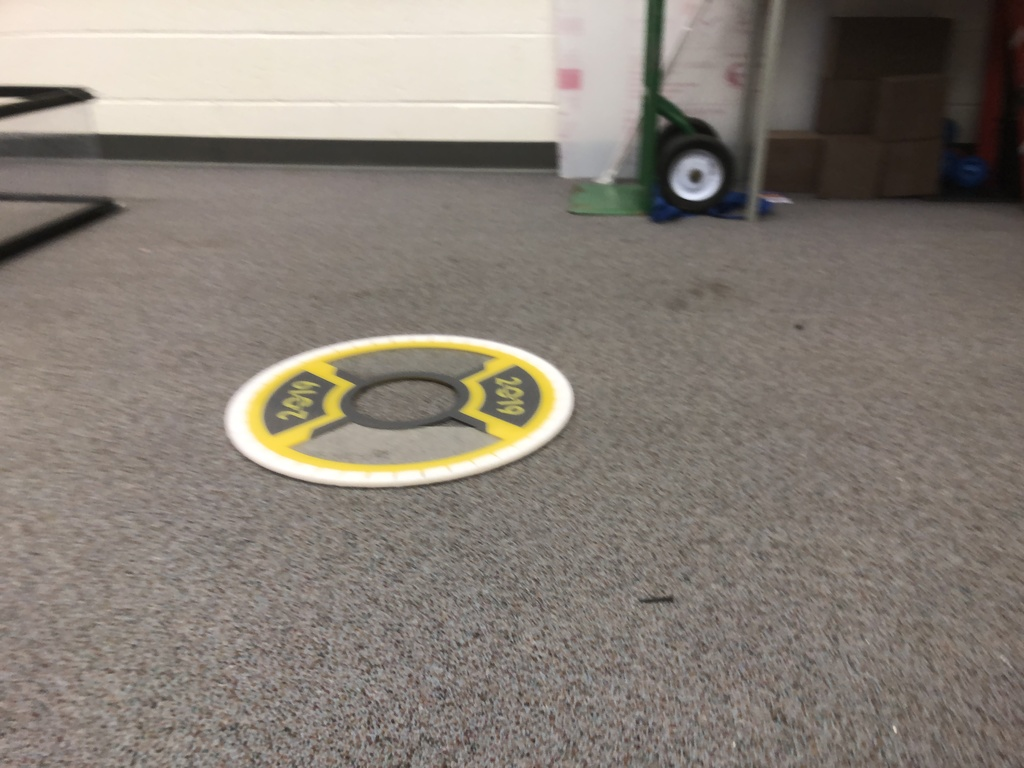hatch_panel: (203, 322, 591, 493)
